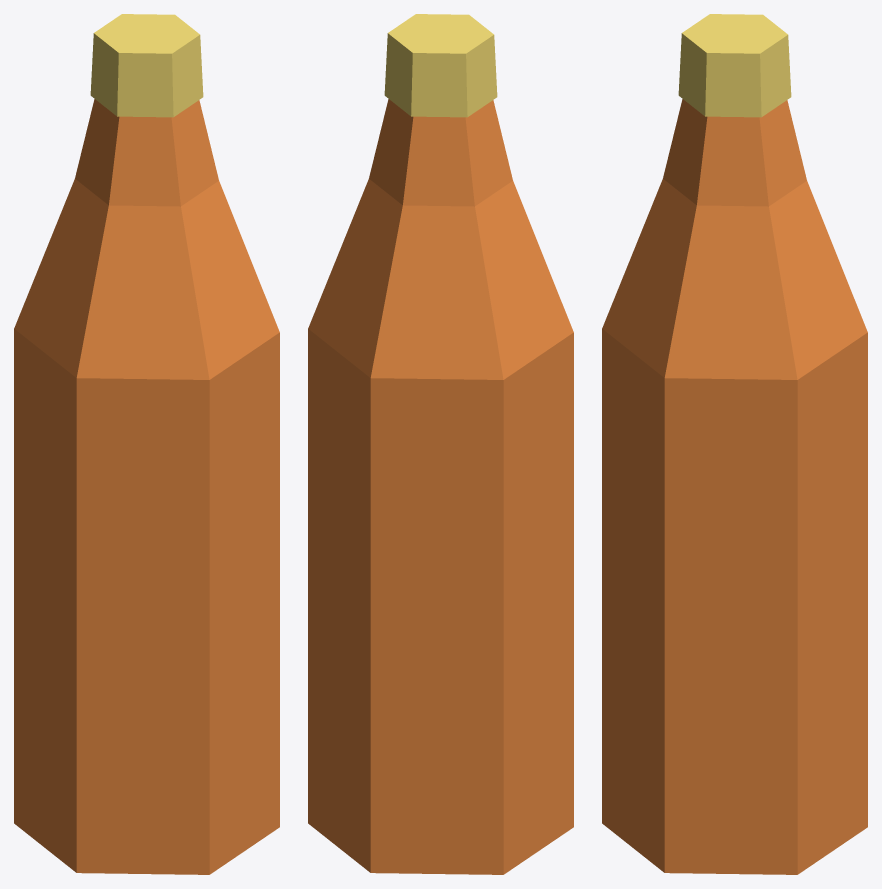
The model's file is Laundry_Bottles.fbx.
3 views of the same model, side by side, from view 1: azimuth 30°, elevation 25°; view 2: azimuth 150°, elevation 25°; view 3: azimuth 270°, elevation 25° (orthographic).
Visible parts, largest first — view 1: Laundry_Bottles; view 2: Laundry_Bottles; view 3: Laundry_Bottles.
Boxes of the visible parts, <box> form: Laundry_Bottles: <box>14,14,279,874</box>; Laundry_Bottles: <box>308,14,573,874</box>; Laundry_Bottles: <box>602,14,867,874</box>.
Size of the model in its own units: 12.38 by 46.09 by 14.03.
